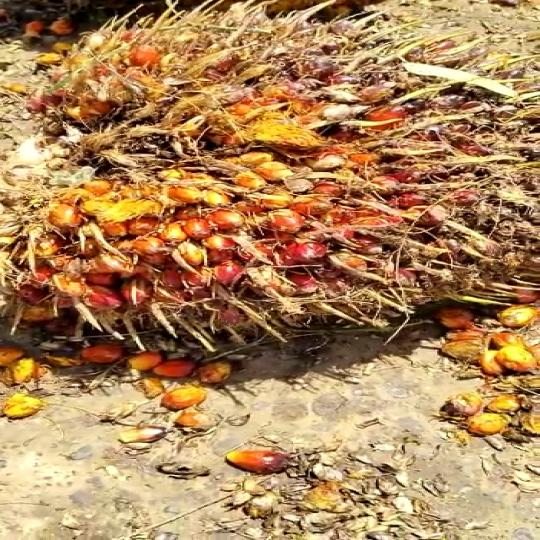masak: (0, 2, 540, 366)
